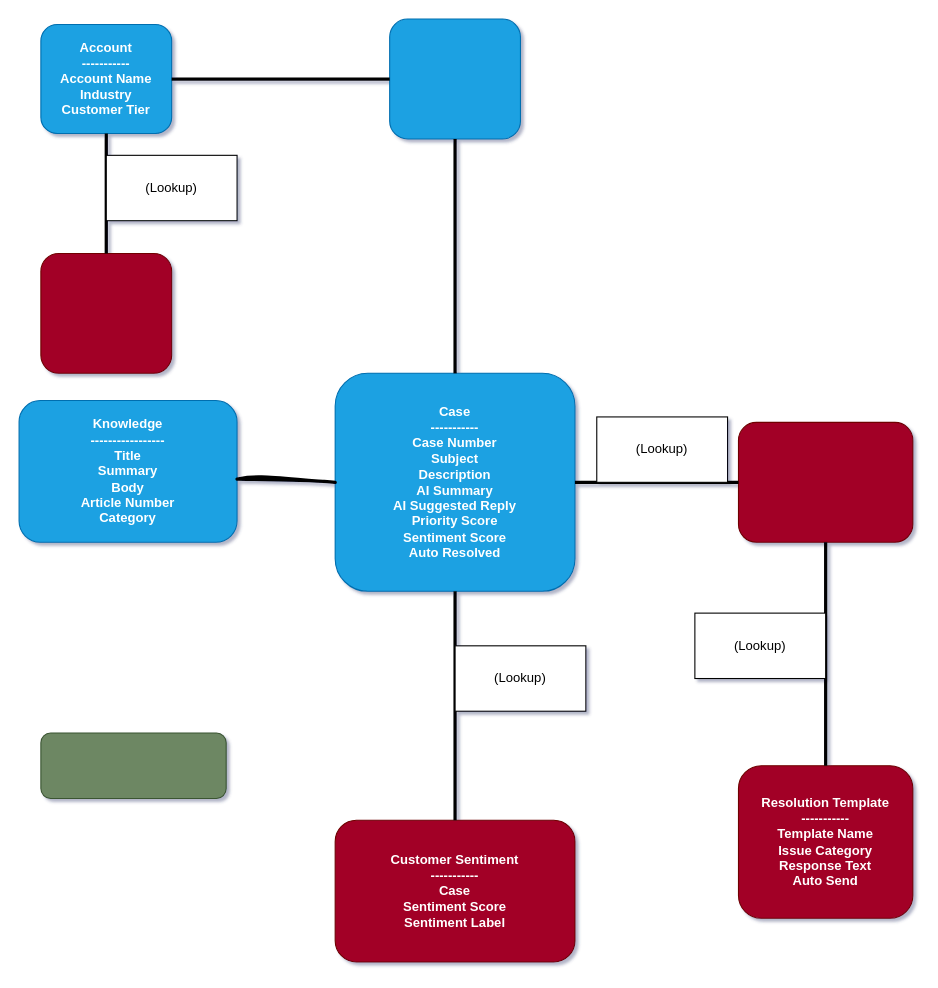
The diagram is 938 pixels wide and 988 high, and some of its shapes have lost their labels. Each missing label, with the centre of its shape:
"Contact ----------- First Name Last Name Email Account (Lookup)" belongs at [454,78].
"Customer Health Score ----------- Account Score Customer Tier" belongs at [106,312].
"Issue Category ----------- Name Description Auto Resolve" belongs at [825,481].
"Standard Objects — Blue Custom Objects — Red" belongs at [133,765].
